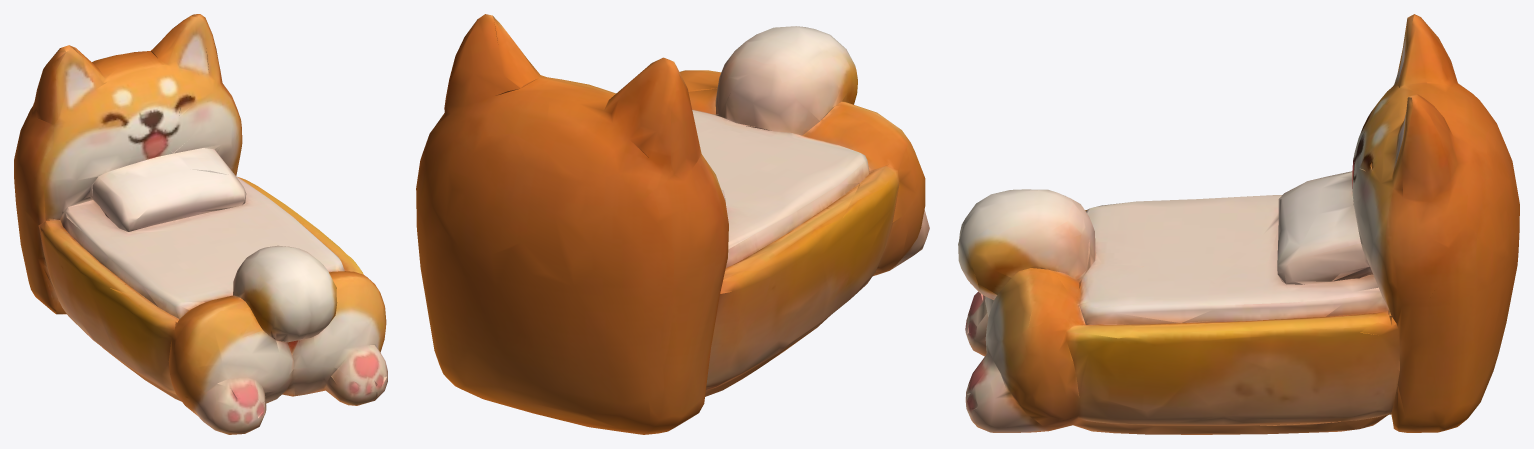
File: bed06.glb
3 renders of one model, left to right at view 1: azimuth 30°, elevation 25°; view 2: azimuth 150°, elevation 25°; view 3: azimuth 270°, elevation 25°, orthographic. The views are drawn at different scales.
Size of the model in its own units: 0.1808 by 0.2098 by 0.3189.
Materials: 1 (1 with a texture image).
